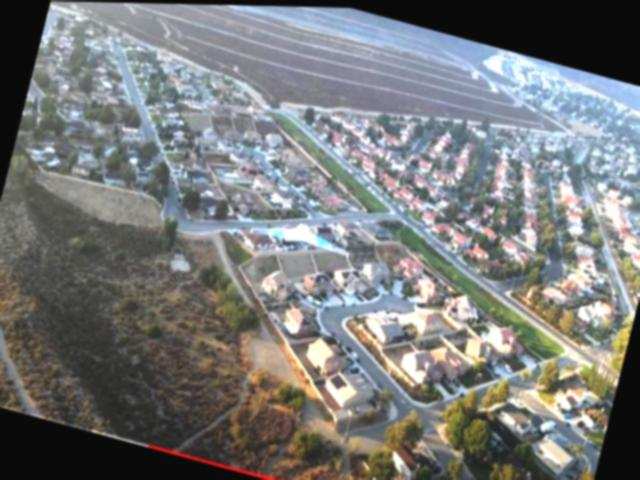iha: (249, 207, 353, 265)
